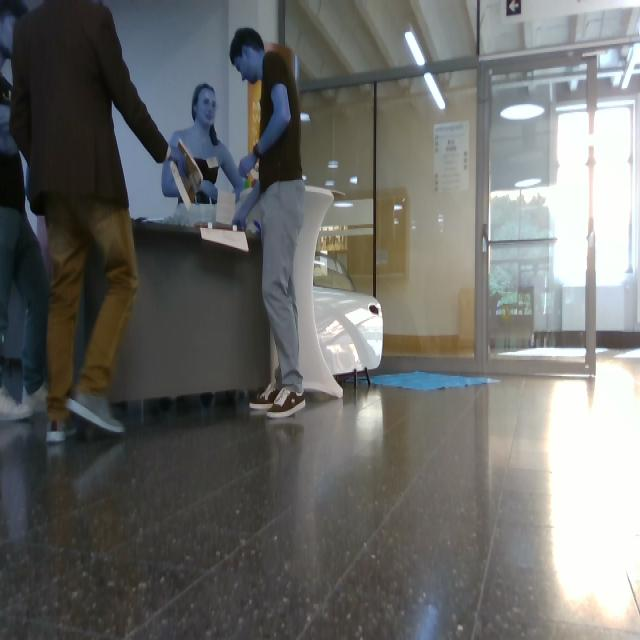desk: (110, 220, 271, 422)
door: (483, 61, 640, 365)
light bulb: (496, 88, 546, 121), (424, 73, 446, 110), (424, 73, 445, 110), (405, 30, 425, 66)
person: (11, 1, 169, 441), (230, 29, 305, 417), (1, 1, 49, 420), (163, 84, 244, 202), (154, 204, 217, 226)
table: (294, 188, 340, 397)
tiled floor: (1, 361, 640, 640)
